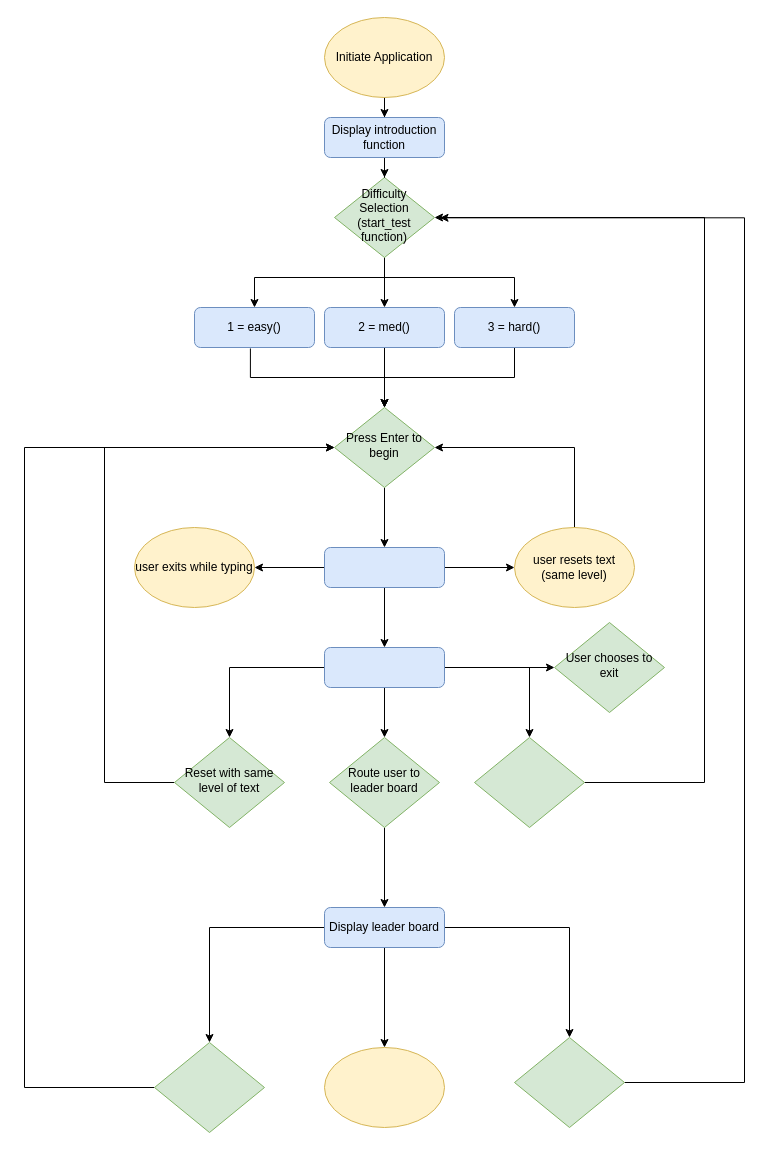
The diagram is 770 pixels wide and 1150 high, and some of its shapes have lost their labels. The shapes that lost their labels are listed below. From the top down, each one's centre as x and y in pixels, then its label:
point 384,567: Display randomly selected text (easy, med, hard functions)
point 384,667: Display user's WPM / accuracy
point 529,782: Reset with different level of text
point 209,1087: Reset with same level
point 384,1087: user exits
point 569,1082: Reset with different difficulty
